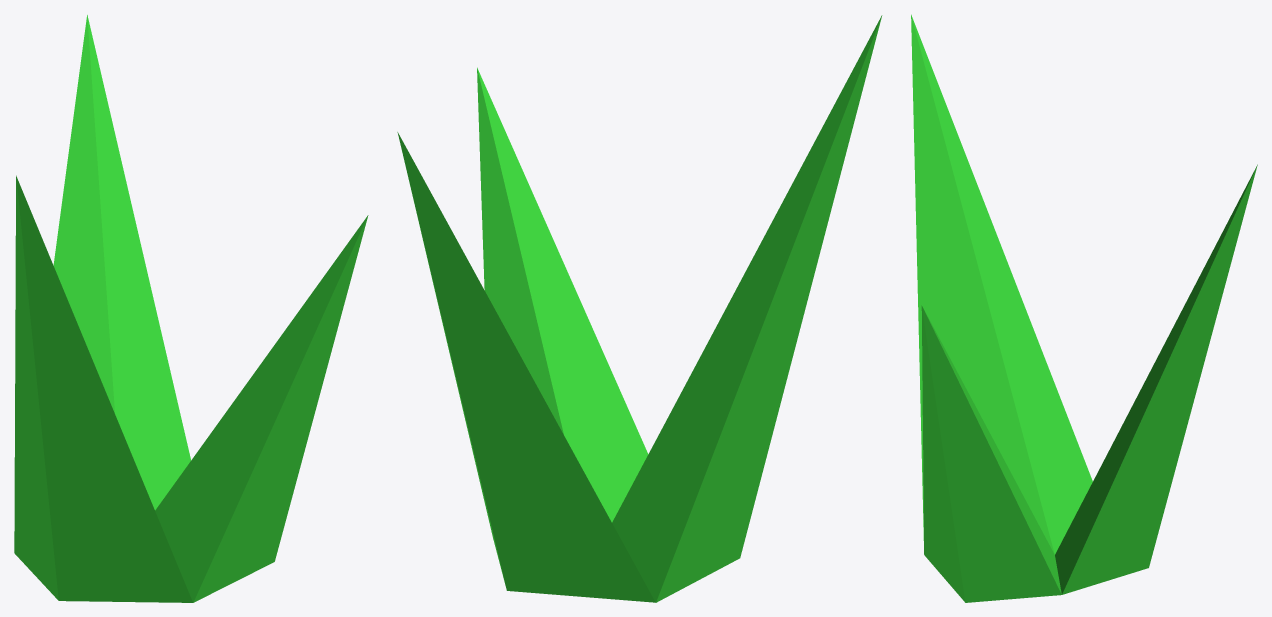
The model's file is Grass4.glb.
3 views of the same model, side by side, from view 1: azimuth 30°, elevation 25°; view 2: azimuth 150°, elevation 25°; view 3: azimuth 270°, elevation 25° (orthographic). The views are drawn at different scales.
Parts seen in each view (by area): view 1: grass5; view 2: grass5; view 3: grass5.
Boxes of the visible parts, <box> form: grass5: <box>14,15,368,602</box>; grass5: <box>397,15,882,602</box>; grass5: <box>911,14,1257,602</box>.
Size of the model in its own units: 0.3558 by 0.4535 by 0.3131.
